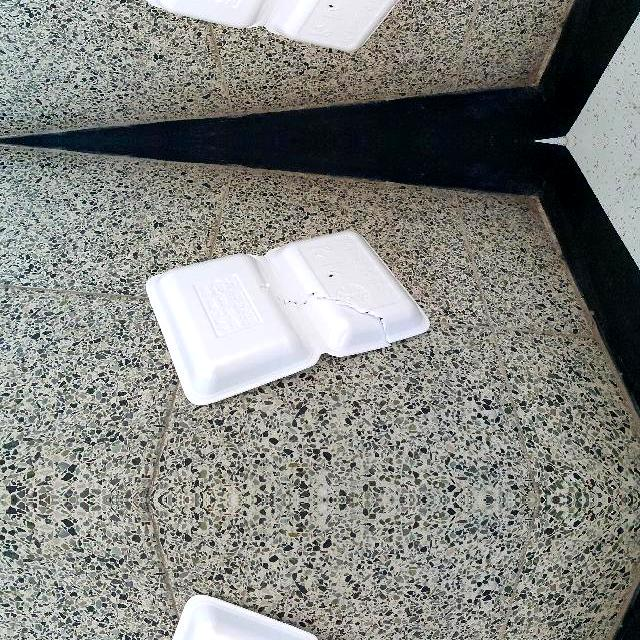Styrofoam: (146, 227, 430, 406), (146, 230, 429, 404), (145, 0, 430, 53), (145, 592, 430, 640), (147, 0, 400, 50)
